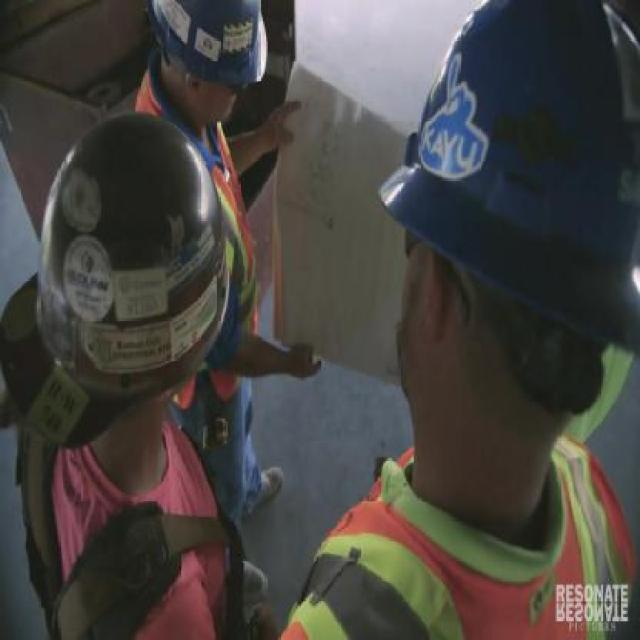Vest: (284, 430, 634, 638), (133, 59, 261, 401)
helmet: (371, 0, 637, 355), (144, 1, 268, 85)
person: (291, 2, 636, 640), (5, 108, 251, 640), (133, 0, 322, 506)
